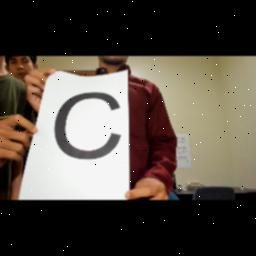c: (53, 84, 121, 172)
